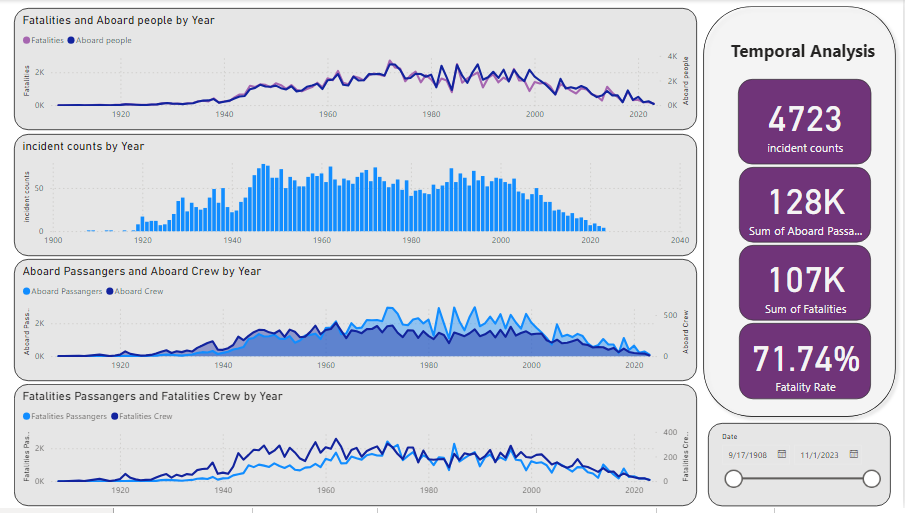

What the dashboard file says about the page in this screenshot:
{"tool":"powerbi","page":{"name":"Temporal Analysis","canvas":[1280,720],"ordinal":1},"visuals":[{"type":"card","fields":{"Values":["Sum(Airplane Crashes Analysis.Aboard Passangers)"]},"box":[1048.3,236.2,187.2,106.6],"z":0},{"type":"card","fields":{"Values":["Sum(Airplane Crashes Analysis.Fatalities)"]},"box":[1048.3,347,187.2,106.6],"z":1000},{"type":"card","fields":{"Values":["Measure.incident counts"]},"box":[1046.9,112.3,188.6,121],"z":2000},{"type":"card","fields":{"Values":["Measure.Fatality Rate"]},"box":[1048.3,457.9,187.2,108],"z":3000},{"type":"columnChart","fields":{"Category":["Airplane Crashes Analysis.Date.Variation.Date Hierarchy.Year"],"Y":["Measure.incident counts"]},"box":[21.6,190.1,967.7,172.8],"z":4000},{"type":"slicer","fields":{"Values":["Airplane Crashes Analysis.Date"]},"box":[1005.1,599,259.2,118.1],"z":5000},{"type":"lineChart","fields":{"Category":["Airplane Crashes Analysis.Date.Variation.Date Hierarchy.Year"],"Y2":["Sum(Airplane Crashes Analysis.Fatalities Crew)"],"Y":["Sum(Airplane Crashes Analysis.Fatalities Passangers)"]},"box":[21.6,544.3,967.7,172.8],"z":6000},{"type":"areaChart","fields":{"Category":["Airplane Crashes Analysis.Date.Variation.Date Hierarchy.Year"],"Y":["Sum(Airplane Crashes Analysis.Aboard Passangers)"],"Y2":["Sum(Airplane Crashes Analysis.Aboard Crew)"]},"box":[21.6,367.2,967.7,172.8],"z":7000},{"type":"lineChart","fields":{"Y":["Sum(Airplane Crashes Analysis.Fatalities)"],"Y2":["Sum(Airplane Crashes Analysis.Aboard)"],"Category":["Airplane Crashes Analysis.Date.Variation.Date Hierarchy.Year"]},"box":[21.6,11.5,967.7,172.8],"z":8000},{"type":"shape","box":[989.3,0,290.6,599.5],"z":9000},{"type":"textbox","box":[1015.2,49,249.1,49],"z":10000}]}

Visuals, with their boxes in screenshot pixels (x1, y1, x2, y2), scaled from the page's 1280x720 canvas onto the 905x513 screenshot:
card - Sum(Airplane Crashes Analysis.Aboard Passangers): select_region(741, 168, 874, 244)
card - Sum(Airplane Crashes Analysis.Fatalities): select_region(741, 247, 874, 323)
card - Measure.incident counts: select_region(740, 80, 874, 166)
card - Measure.Fatality Rate: select_region(741, 326, 874, 403)
columnChart - Airplane Crashes Analysis.Date.Variation.Date Hierarchy.Year x Measure.incident counts: select_region(15, 135, 699, 259)
slicer - Airplane Crashes Analysis.Date: select_region(711, 427, 894, 511)
lineChart - Airplane Crashes Analysis.Date.Variation.Date Hierarchy.Year x Sum(Airplane Crashes Analysis.Fatalities Crew): select_region(15, 388, 699, 511)
areaChart - Airplane Crashes Analysis.Date.Variation.Date Hierarchy.Year x Sum(Airplane Crashes Analysis.Aboard Passangers): select_region(15, 262, 699, 385)
lineChart - Sum(Airplane Crashes Analysis.Fatalities) x Sum(Airplane Crashes Analysis.Aboard): select_region(15, 8, 699, 131)
shape: select_region(699, 0, 904, 427)
textbox: select_region(718, 35, 894, 70)
